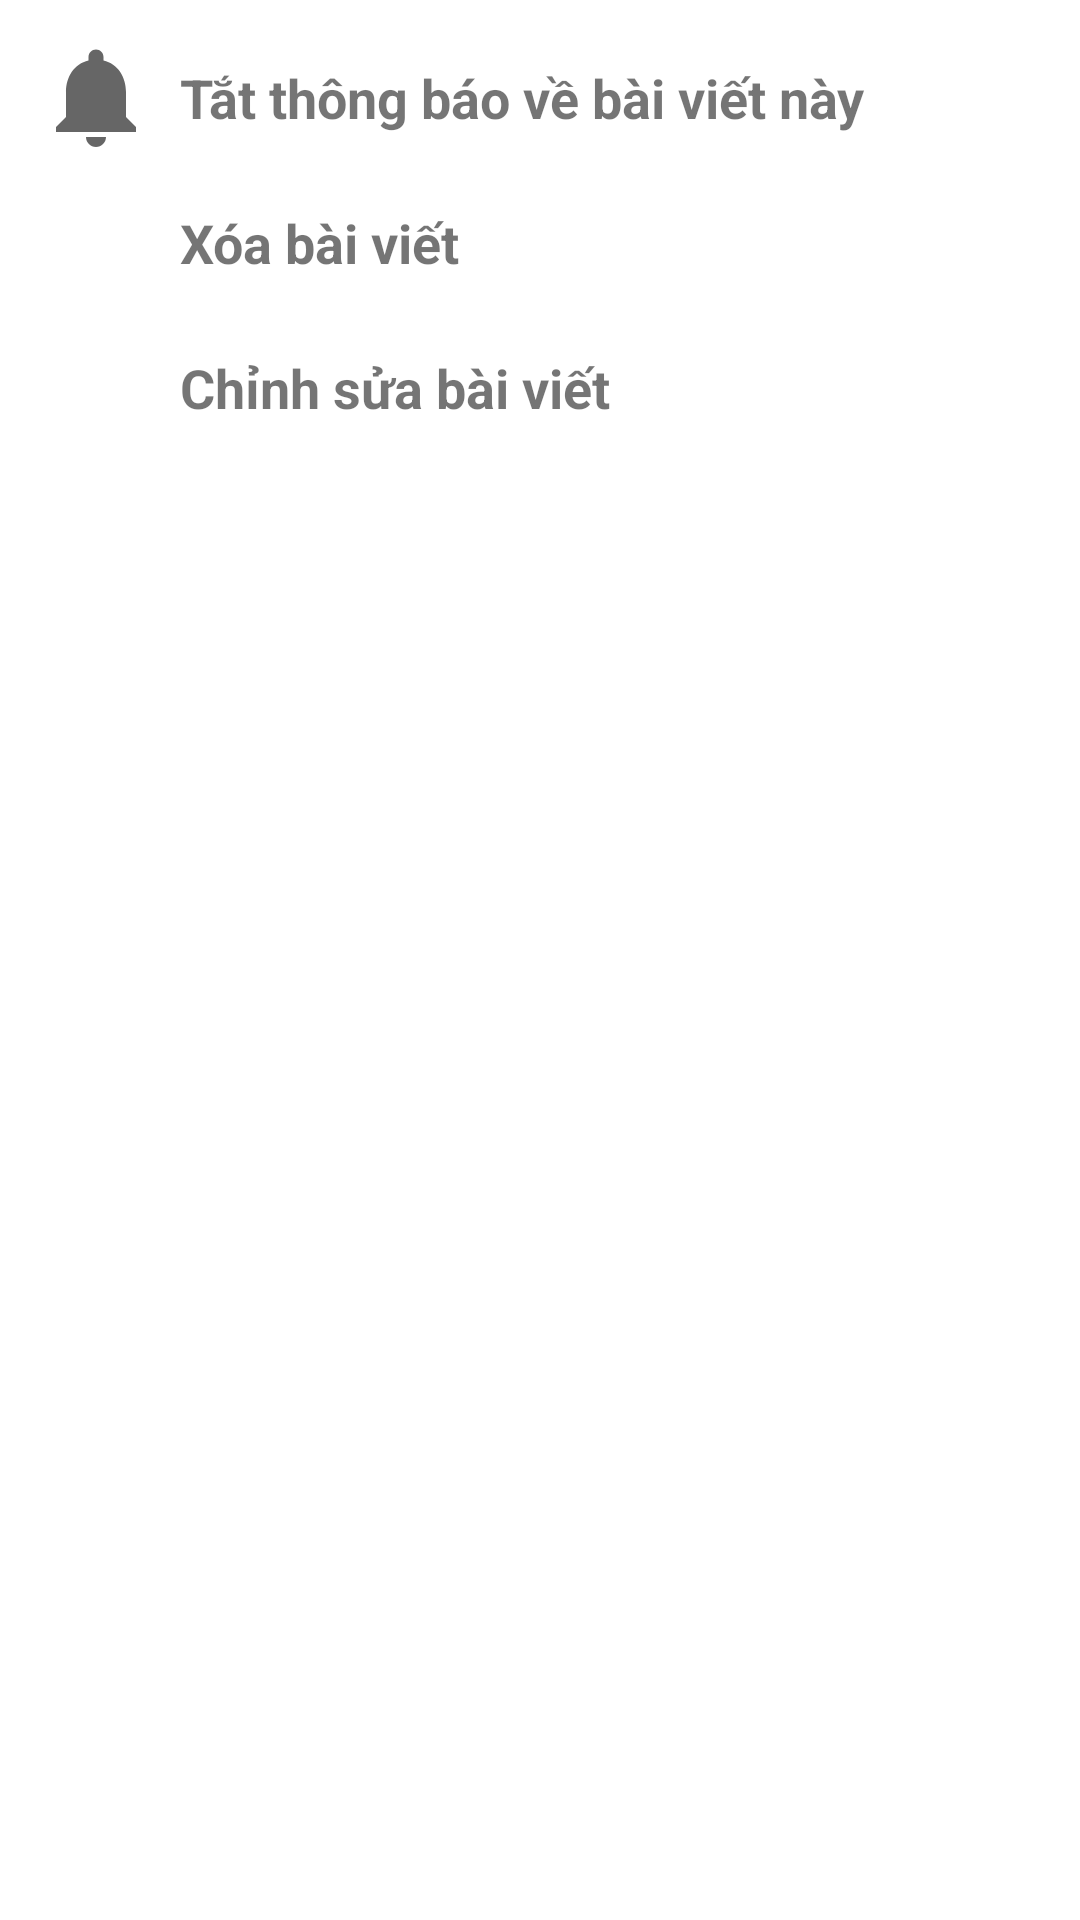

Where icons sit on this 1080×1920 app screen, as (x1, y1, x2, y2):
notifications: (56, 49, 136, 147)
